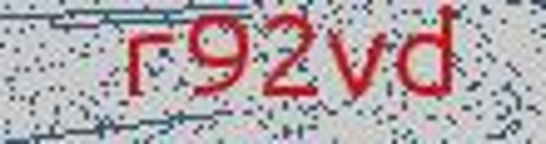2: (258, 9, 320, 103)
9: (183, 6, 251, 102)
d: (393, 1, 467, 112)
r: (114, 18, 178, 95)
v: (323, 21, 386, 107)
